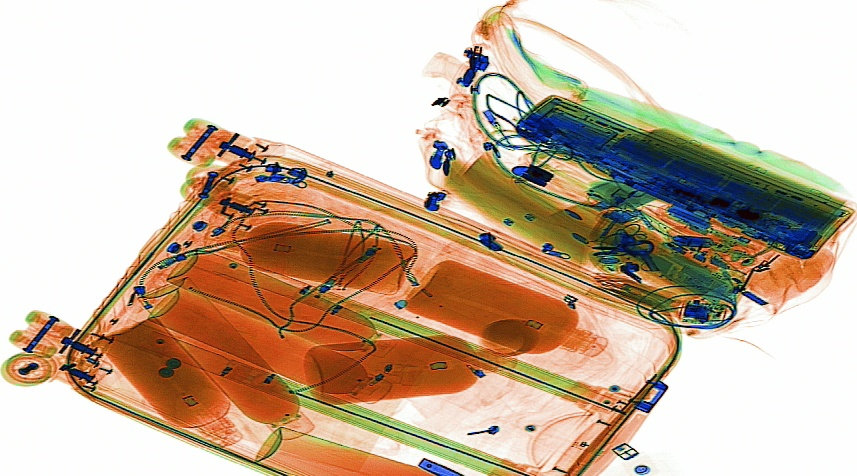pressure: (135, 275, 316, 441), (145, 285, 392, 405), (164, 242, 397, 360), (253, 426, 441, 474)
